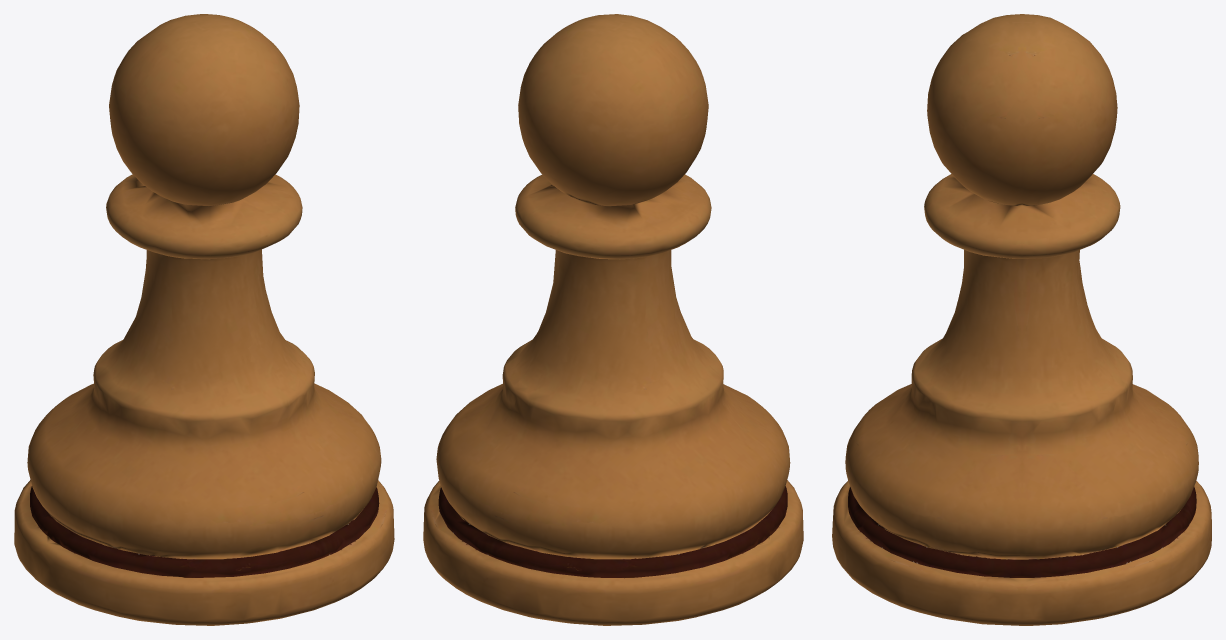
The model's file is pawn_light.glb.
The picture shows the model from 3 angles, left to right: view 1: azimuth 30°, elevation 25°; view 2: azimuth 150°, elevation 25°; view 3: azimuth 270°, elevation 25°; orthographic projection.
Parts seen in each view (by area): view 1: geometry_0; view 2: geometry_0; view 3: geometry_0.
Part boxes in pixels (<box>): geometry_0: <box>14,14,394,625</box>; geometry_0: <box>423,14,803,625</box>; geometry_0: <box>832,14,1211,625</box>.
Bounding box in the file's own units: 0.485 × 0.74 × 0.4852.
1 material, 1 textured.
